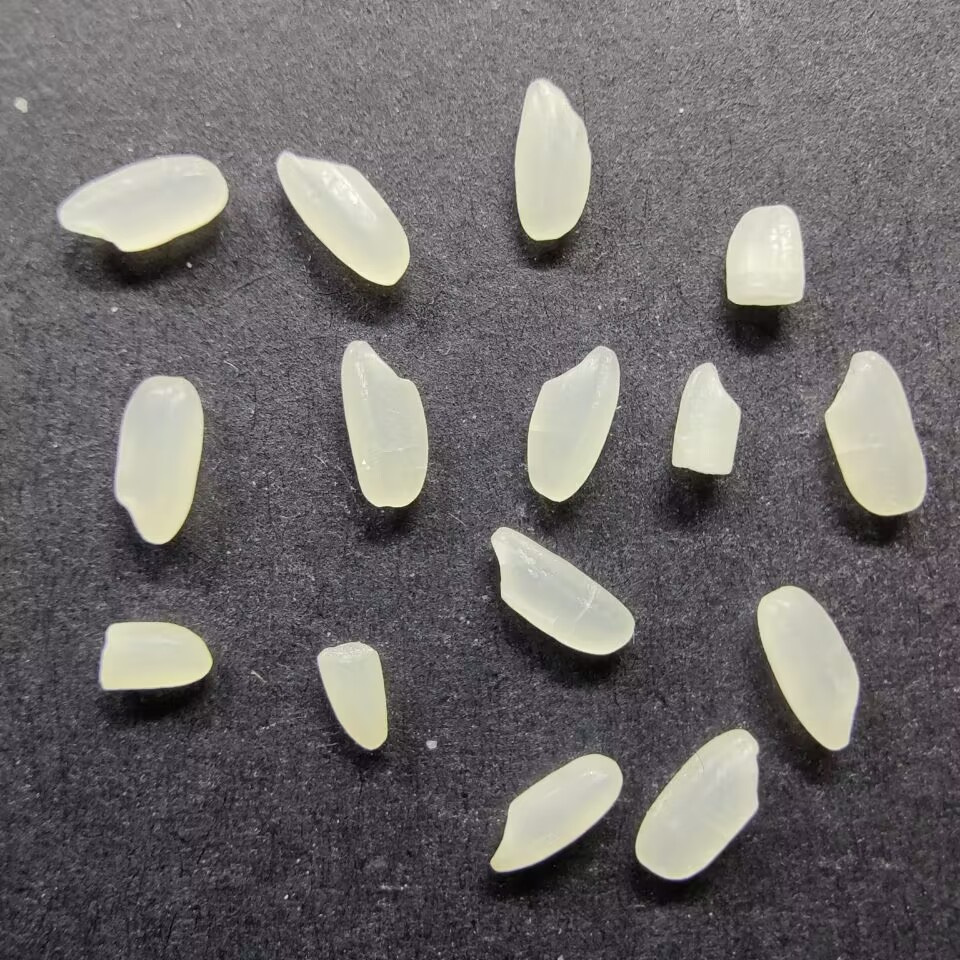broken: (722, 203, 808, 308), (668, 362, 743, 476), (313, 641, 390, 751), (96, 619, 210, 692)
rice: (488, 525, 637, 657), (274, 149, 412, 288), (635, 728, 760, 880), (820, 349, 929, 517), (754, 585, 862, 752), (56, 152, 229, 253), (489, 752, 624, 875), (337, 337, 431, 511), (111, 373, 205, 546), (524, 343, 621, 505), (513, 76, 591, 244)
